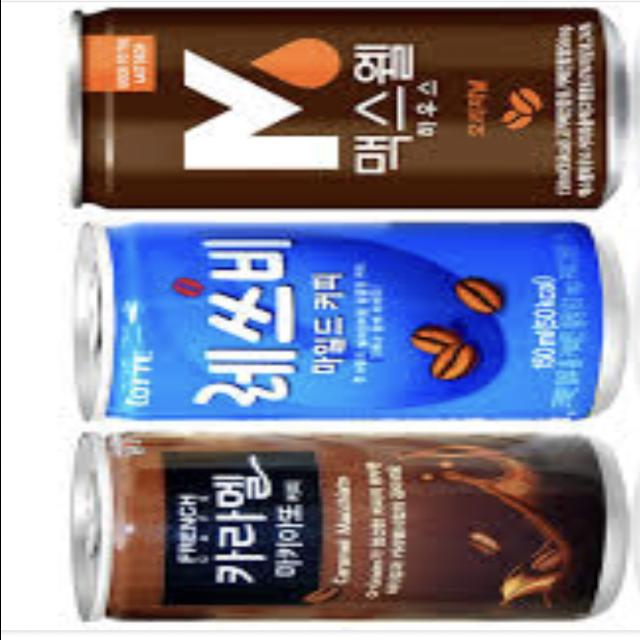can: (46, 3, 632, 221), (56, 214, 628, 431), (52, 424, 622, 626)
